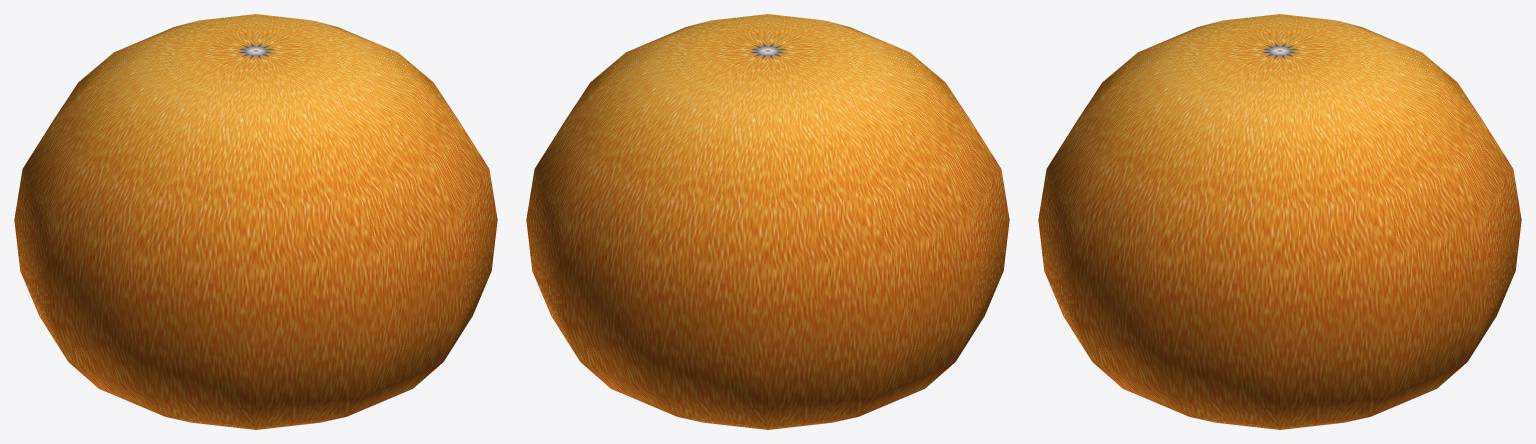
The picture shows the model from 3 angles, left to right: view 1: azimuth 30°, elevation 25°; view 2: azimuth 150°, elevation 25°; view 3: azimuth 270°, elevation 25°; orthographic projection.
Parts seen in each view (by area): view 1: Joint_0_Object_0; view 2: Joint_0_Object_0; view 3: Joint_0_Object_0.
Boxes of the visible parts, x1,y1,x2,y2 form: Joint_0_Object_0: (14,14,497,429); Joint_0_Object_0: (526,14,1009,429); Joint_0_Object_0: (1038,14,1521,429).
Size of the model in its own units: 210 by 163 by 210.
